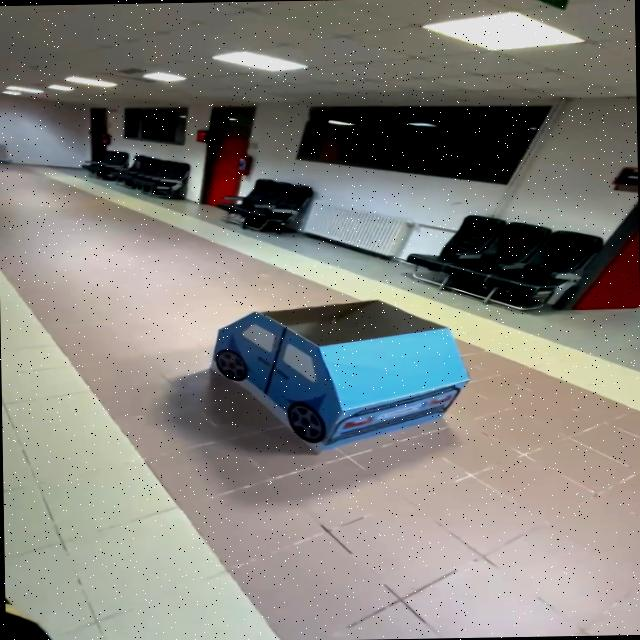blue_car: (180, 295, 492, 469)
